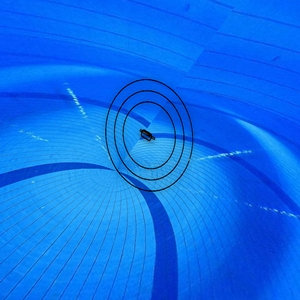circle: (103, 75, 199, 194)
submarine: (136, 128, 167, 149)
